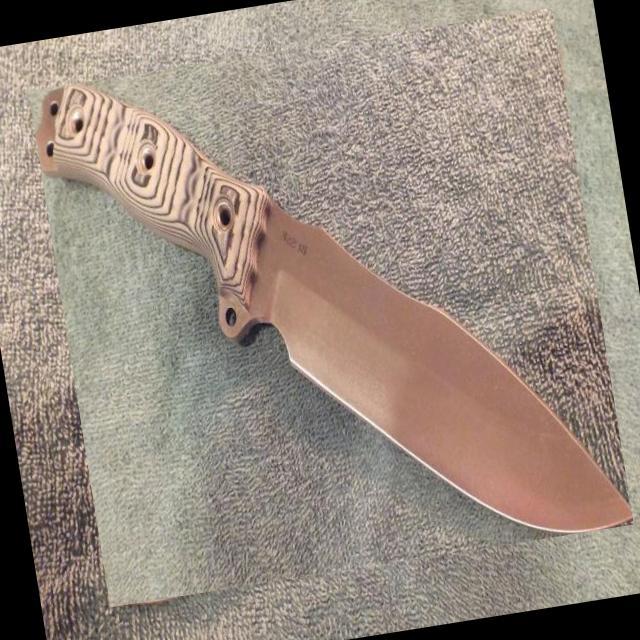Knife: (37, 84, 633, 533)
